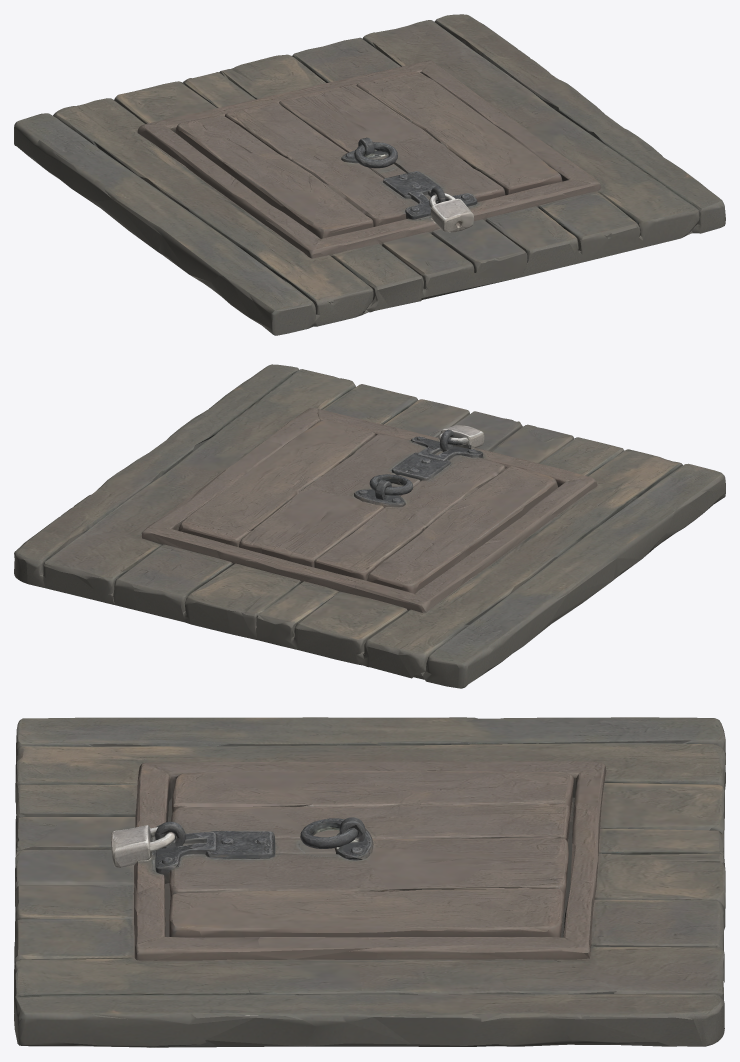
Rendered from botola.glb.
The picture shows the model from 3 angles, top to bottom: view 1: azimuth 30°, elevation 25°; view 2: azimuth 150°, elevation 25°; view 3: azimuth 270°, elevation 25°; orthographic projection. The views are drawn at different scales.
Parts seen in each view (by area): view 1: Mesh_0; view 2: Mesh_0; view 3: Mesh_0.
Boxes of the visible parts, box(x1,y1,x2,y2) form: Mesh_0: box(14, 14, 725, 335); Mesh_0: box(14, 364, 725, 688); Mesh_0: box(14, 717, 725, 1047).
Size of the model in its own units: 1.9 by 0.2148 by 1.9.
Materials: 1 (1 with a texture image).
